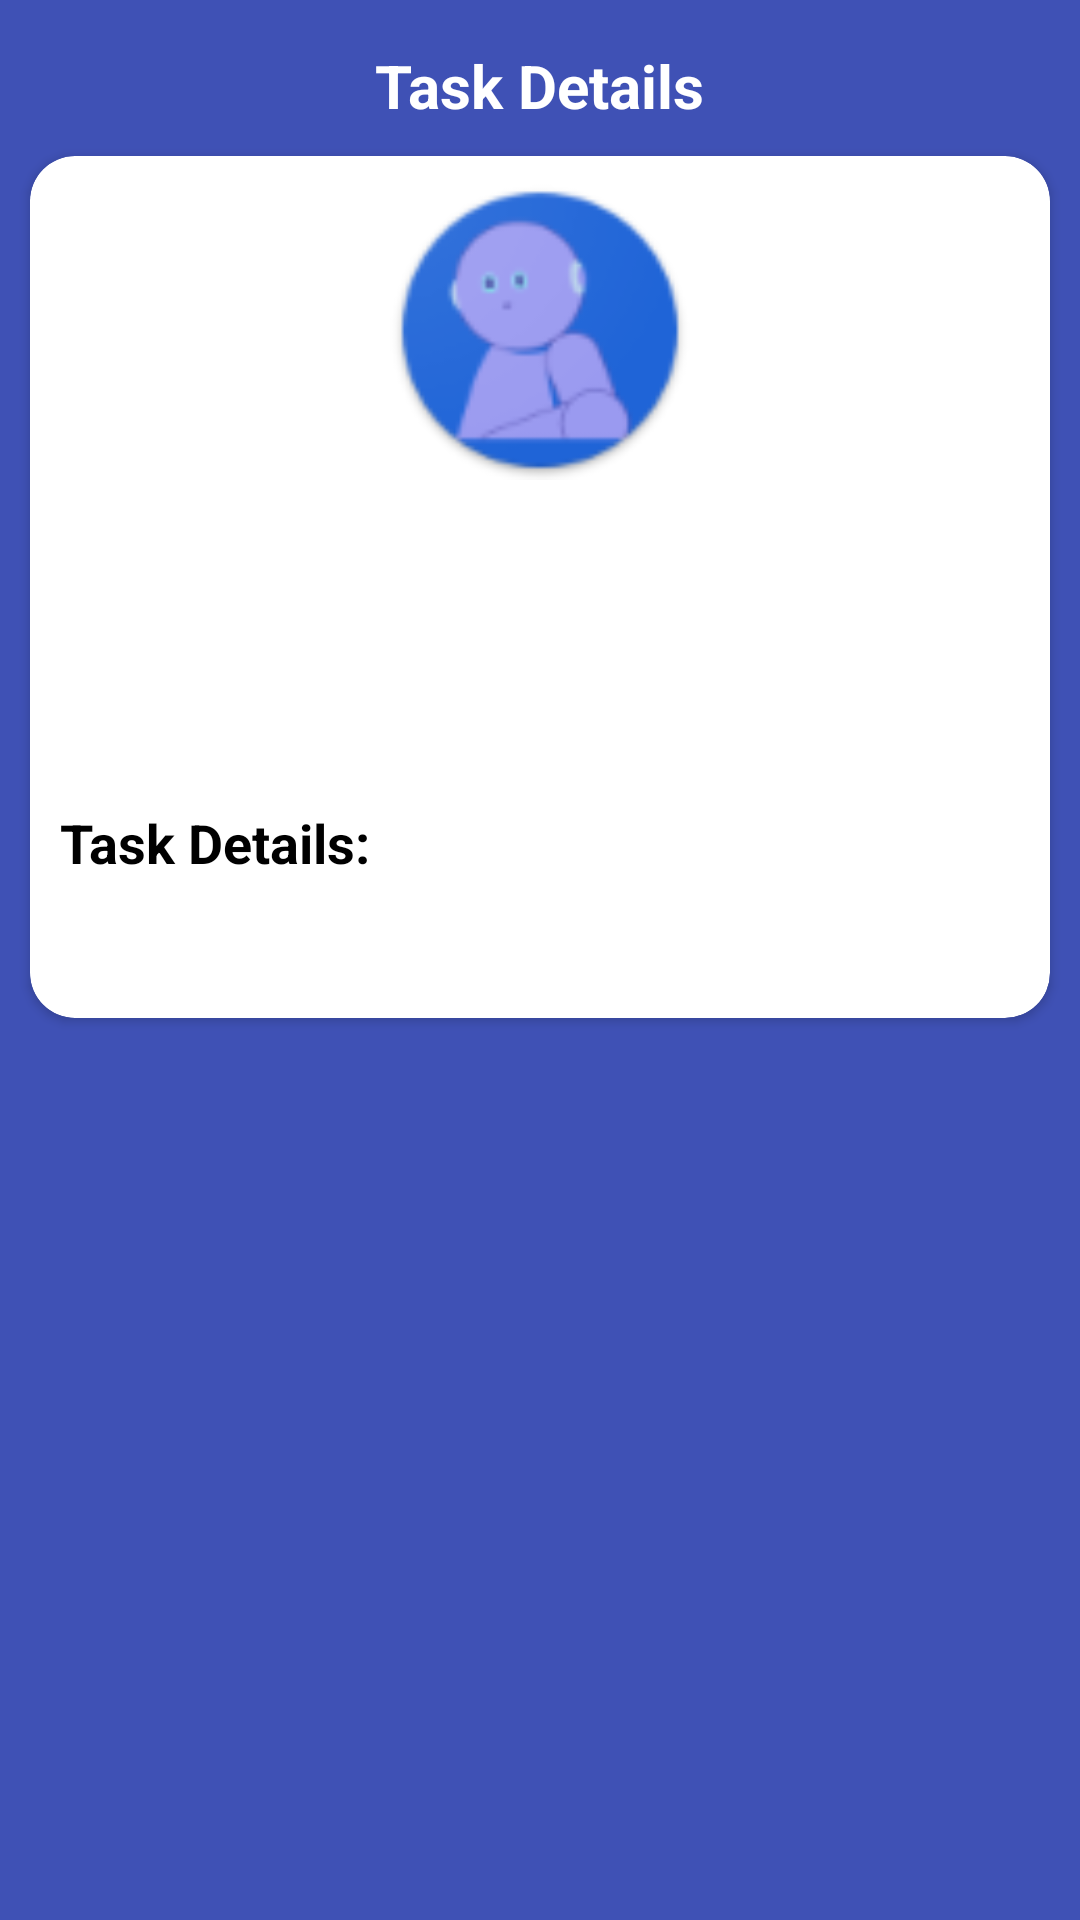

Where to tap for icons on this 1080 x 1920 app screen, as (x=x, y=y):
profile: (x=540, y=332)
